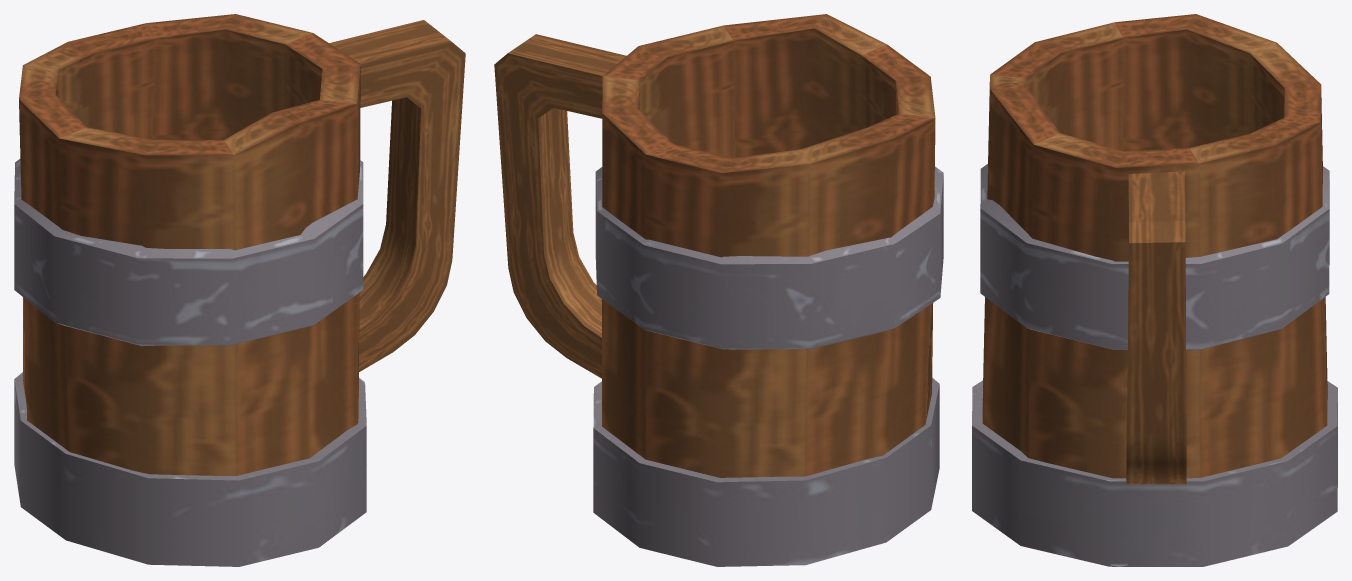
The model's file is Mug.gltf.
3 views of the same model, side by side, from view 1: azimuth 30°, elevation 25°; view 2: azimuth 150°, elevation 25°; view 3: azimuth 270°, elevation 25° (orthographic). The views are drawn at different scales.
Parts seen in each view (by area): view 1: Mug; view 2: Mug; view 3: Mug.
Boxes of the visible parts, x1,y1,x2,y2 form: Mug: [14, 14, 465, 566]; Mug: [494, 14, 943, 566]; Mug: [972, 14, 1337, 566].
Bounding box in the file's own units: 0.1921 × 0.1839 × 0.1468.
2 materials, 2 textured.
